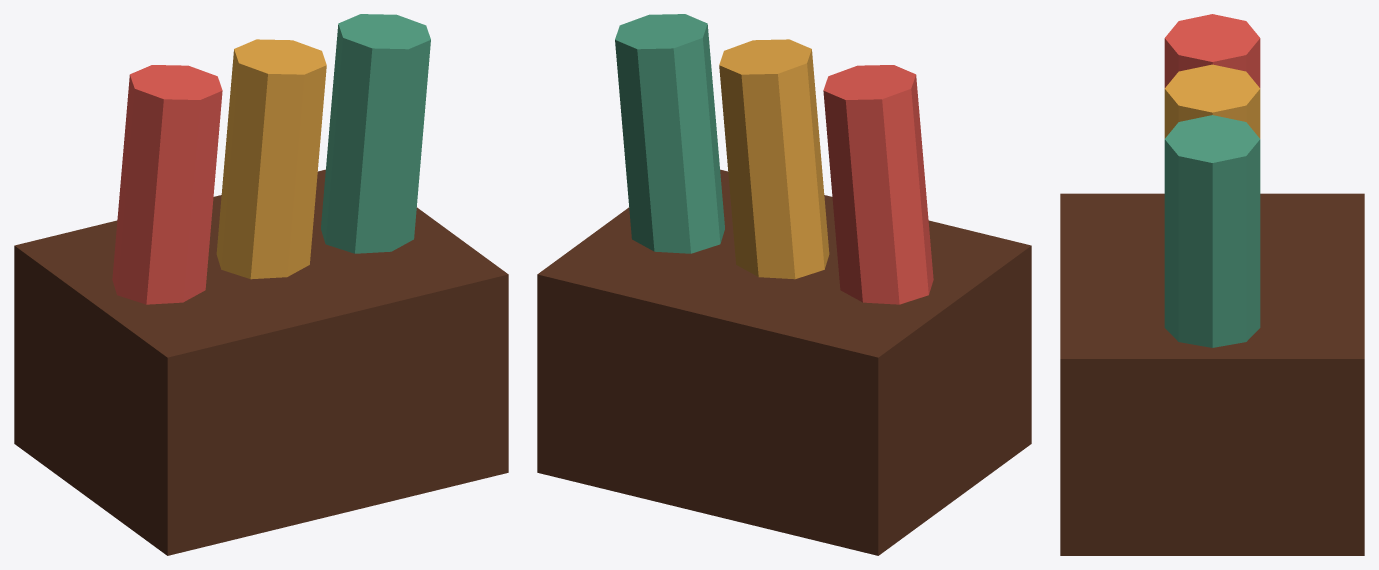
File: ParkParkDecorFireworkLauncher.obj
3 renders of one model, left to right at view 1: azimuth 30°, elevation 25°; view 2: azimuth 150°, elevation 25°; view 3: azimuth 270°, elevation 25°, orthographic.
Visible parts, largest first — view 1: ParkParkDecorFireworkLauncher; view 2: ParkParkDecorFireworkLauncher; view 3: ParkParkDecorFireworkLauncher.
Part boxes in pixels (x1,y1,x2,y2): ParkParkDecorFireworkLauncher: (14, 14, 508, 555); ParkParkDecorFireworkLauncher: (537, 14, 1031, 555); ParkParkDecorFireworkLauncher: (1060, 14, 1364, 555).
Bounding box in the file's own units: 1.8 × 2.02 × 1.4.
